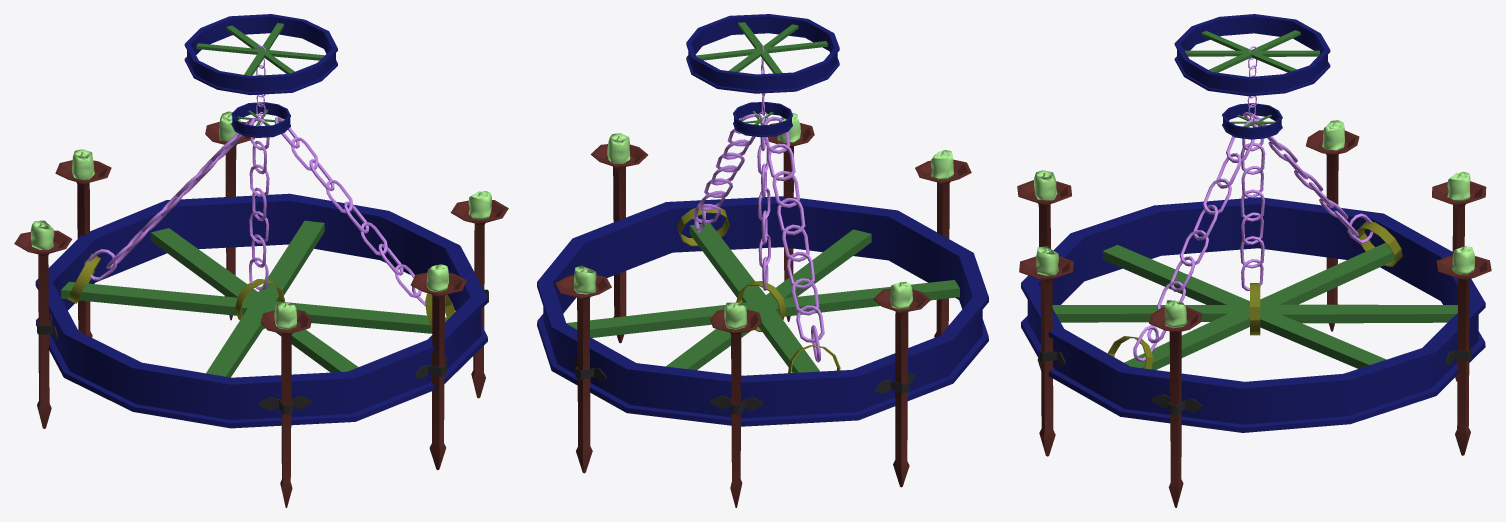
File: Chandelier.fbx
3 views of the same model, side by side, from view 1: azimuth 30°, elevation 25°; view 2: azimuth 150°, elevation 25°; view 3: azimuth 270°, elevation 25° (orthographic).
Parts seen in each view (by area): view 1: Base_Rings, Crossthings, Candle_Holders, Chains, Candles, Chain_Holders, Straps; view 2: Base_Rings, Crossthings, Candle_Holders, Chains, Candles, Straps, Chain_Holders; view 3: Base_Rings, Crossthings, Candle_Holders, Chains, Candles, Chain_Holders, Straps.
Part boxes in pixels (box(x1,y1,x2,y2)): Base_Rings: box(35, 14, 487, 428); Crossthings: box(61, 23, 449, 377); Candle_Holders: box(14, 121, 508, 507); Chains: box(84, 45, 445, 306); Candles: box(30, 111, 491, 329); Chain_Holders: box(67, 253, 455, 329); Straps: box(37, 289, 488, 414); Base_Rings: box(537, 14, 988, 426); Crossthings: box(566, 22, 959, 372); Candle_Holders: box(555, 122, 971, 507); Chains: box(692, 45, 824, 362); Candles: box(573, 112, 953, 329); Straps: box(572, 358, 915, 414); Chain_Holders: box(677, 207, 840, 373); Base_Rings: box(1021, 14, 1485, 432); Crossthings: box(1052, 30, 1457, 369); Candle_Holders: box(1017, 130, 1491, 507); Chains: box(1133, 46, 1373, 361); Candles: box(1034, 120, 1475, 328); Chain_Holders: box(1107, 221, 1402, 369); Straps: box(1039, 347, 1472, 414).
Size of the model in its own units: 34.27 by 29.66 by 34.2.
